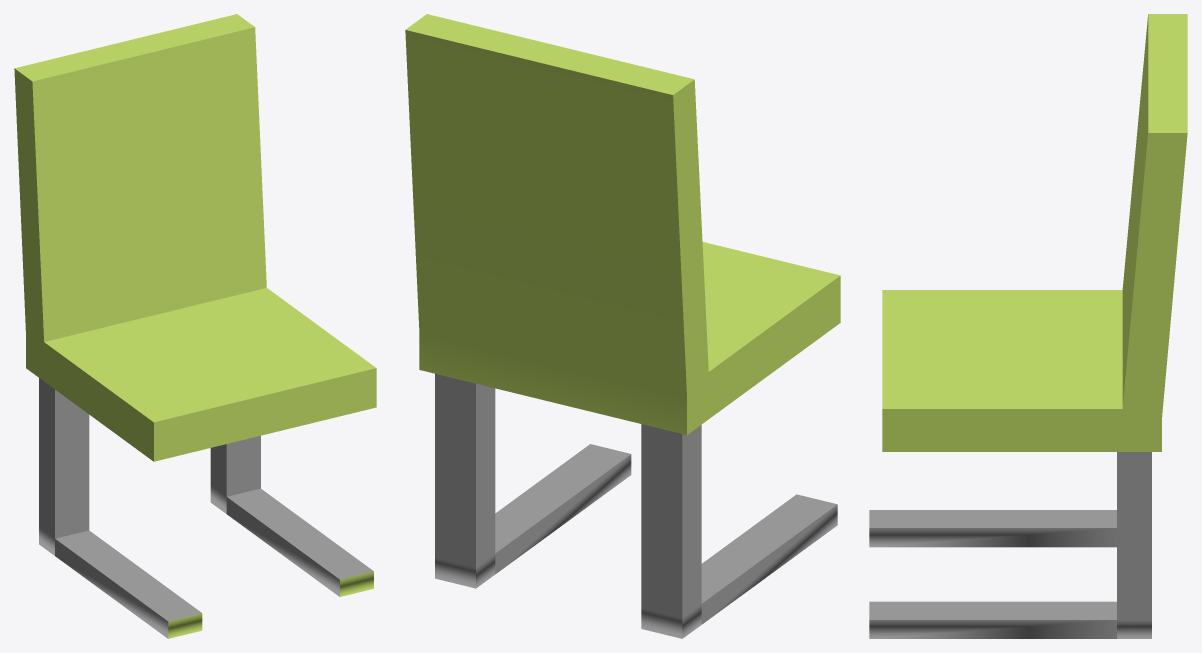
File: prop_desk_chair_new.fbx
3 renders of one model, left to right at view 1: azimuth 30°, elevation 25°; view 2: azimuth 150°, elevation 25°; view 3: azimuth 270°, elevation 25°, orthographic. The views are drawn at different scales.
Parts seen in each view (by area): view 1: Prop_Chair_03; view 2: Prop_Chair_03; view 3: Prop_Chair_03.
Part boxes in pixels (x1,y1,x2,y2): Prop_Chair_03: [14, 14, 376, 638]; Prop_Chair_03: [405, 14, 840, 638]; Prop_Chair_03: [869, 14, 1187, 638].
Bounding box in the file's own units: 1.04 × 2.08 × 1.17.
